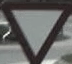Give way: (2, 0, 67, 61)
